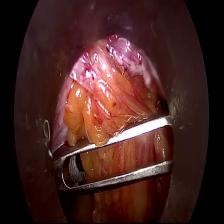Grasper: (53, 113, 173, 207)
